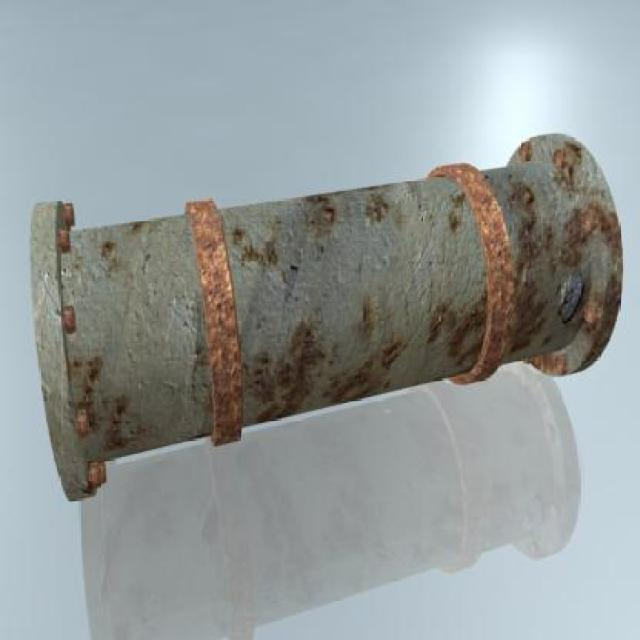corrosion: (33, 131, 627, 506)
